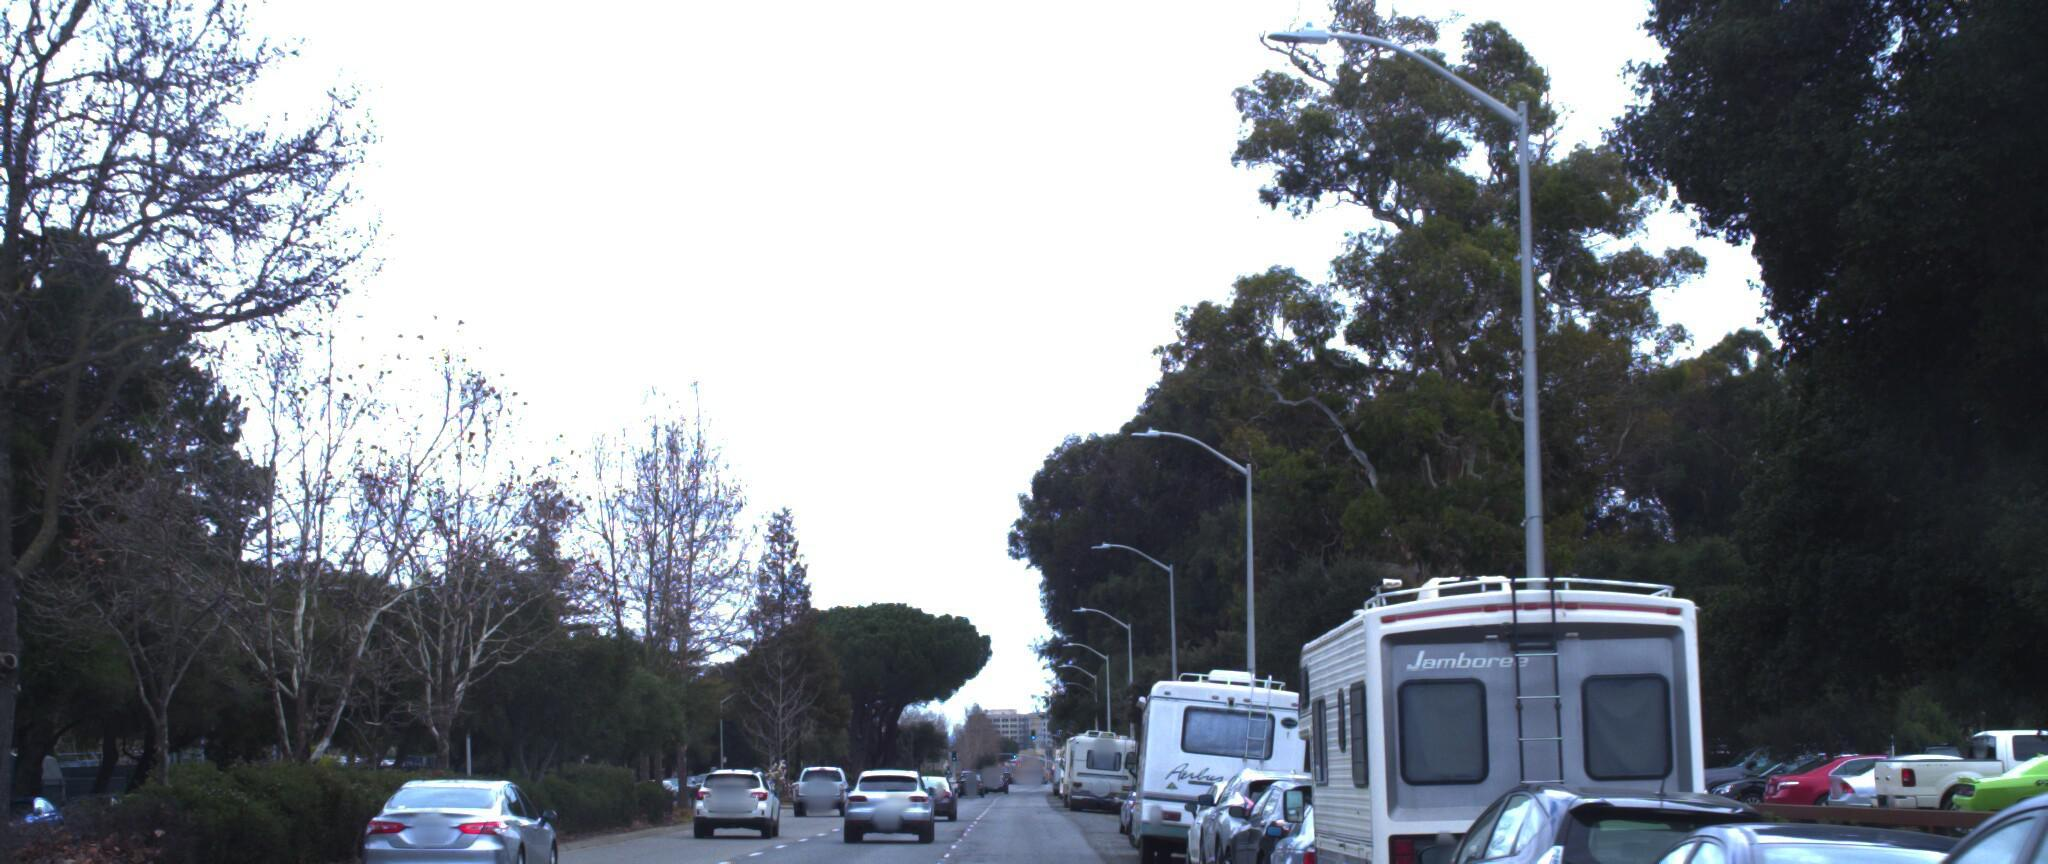car: (1394, 745, 1813, 864), (1546, 773, 2048, 864), (1752, 723, 2048, 864), (1209, 748, 1409, 864), (1249, 761, 1465, 864), (1179, 741, 1360, 864), (358, 764, 569, 864), (680, 750, 793, 838), (820, 762, 933, 839)
other_vehicle: (1277, 516, 1729, 864), (1125, 641, 1304, 861)
